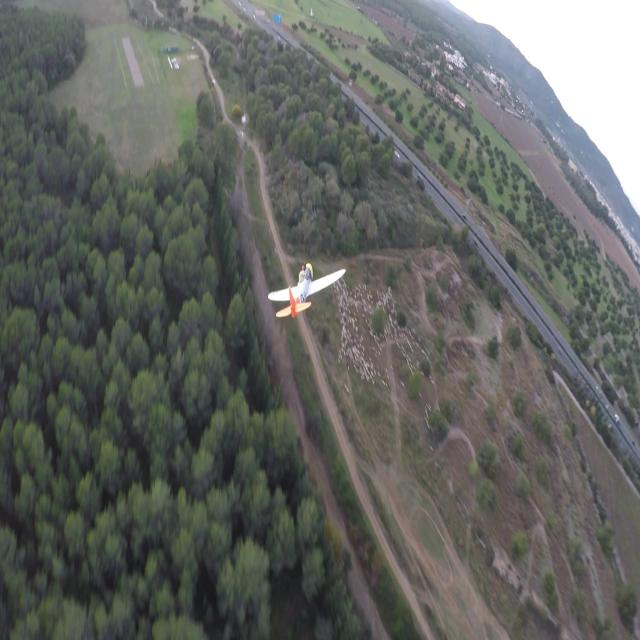iha: (300, 261, 314, 321)
